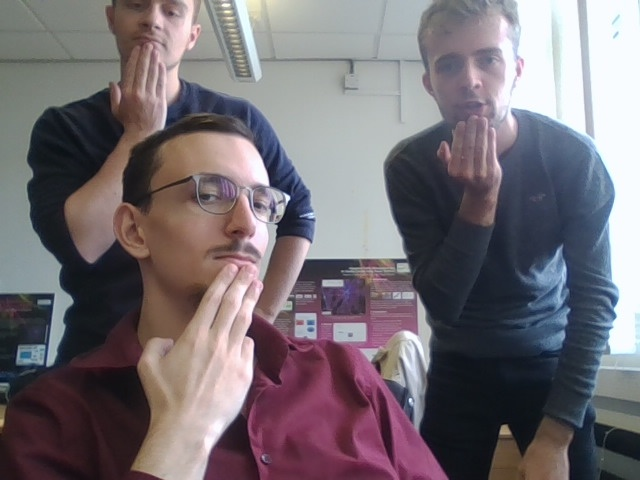livelong: (136, 262, 264, 421), (435, 114, 505, 204), (107, 43, 167, 136)
